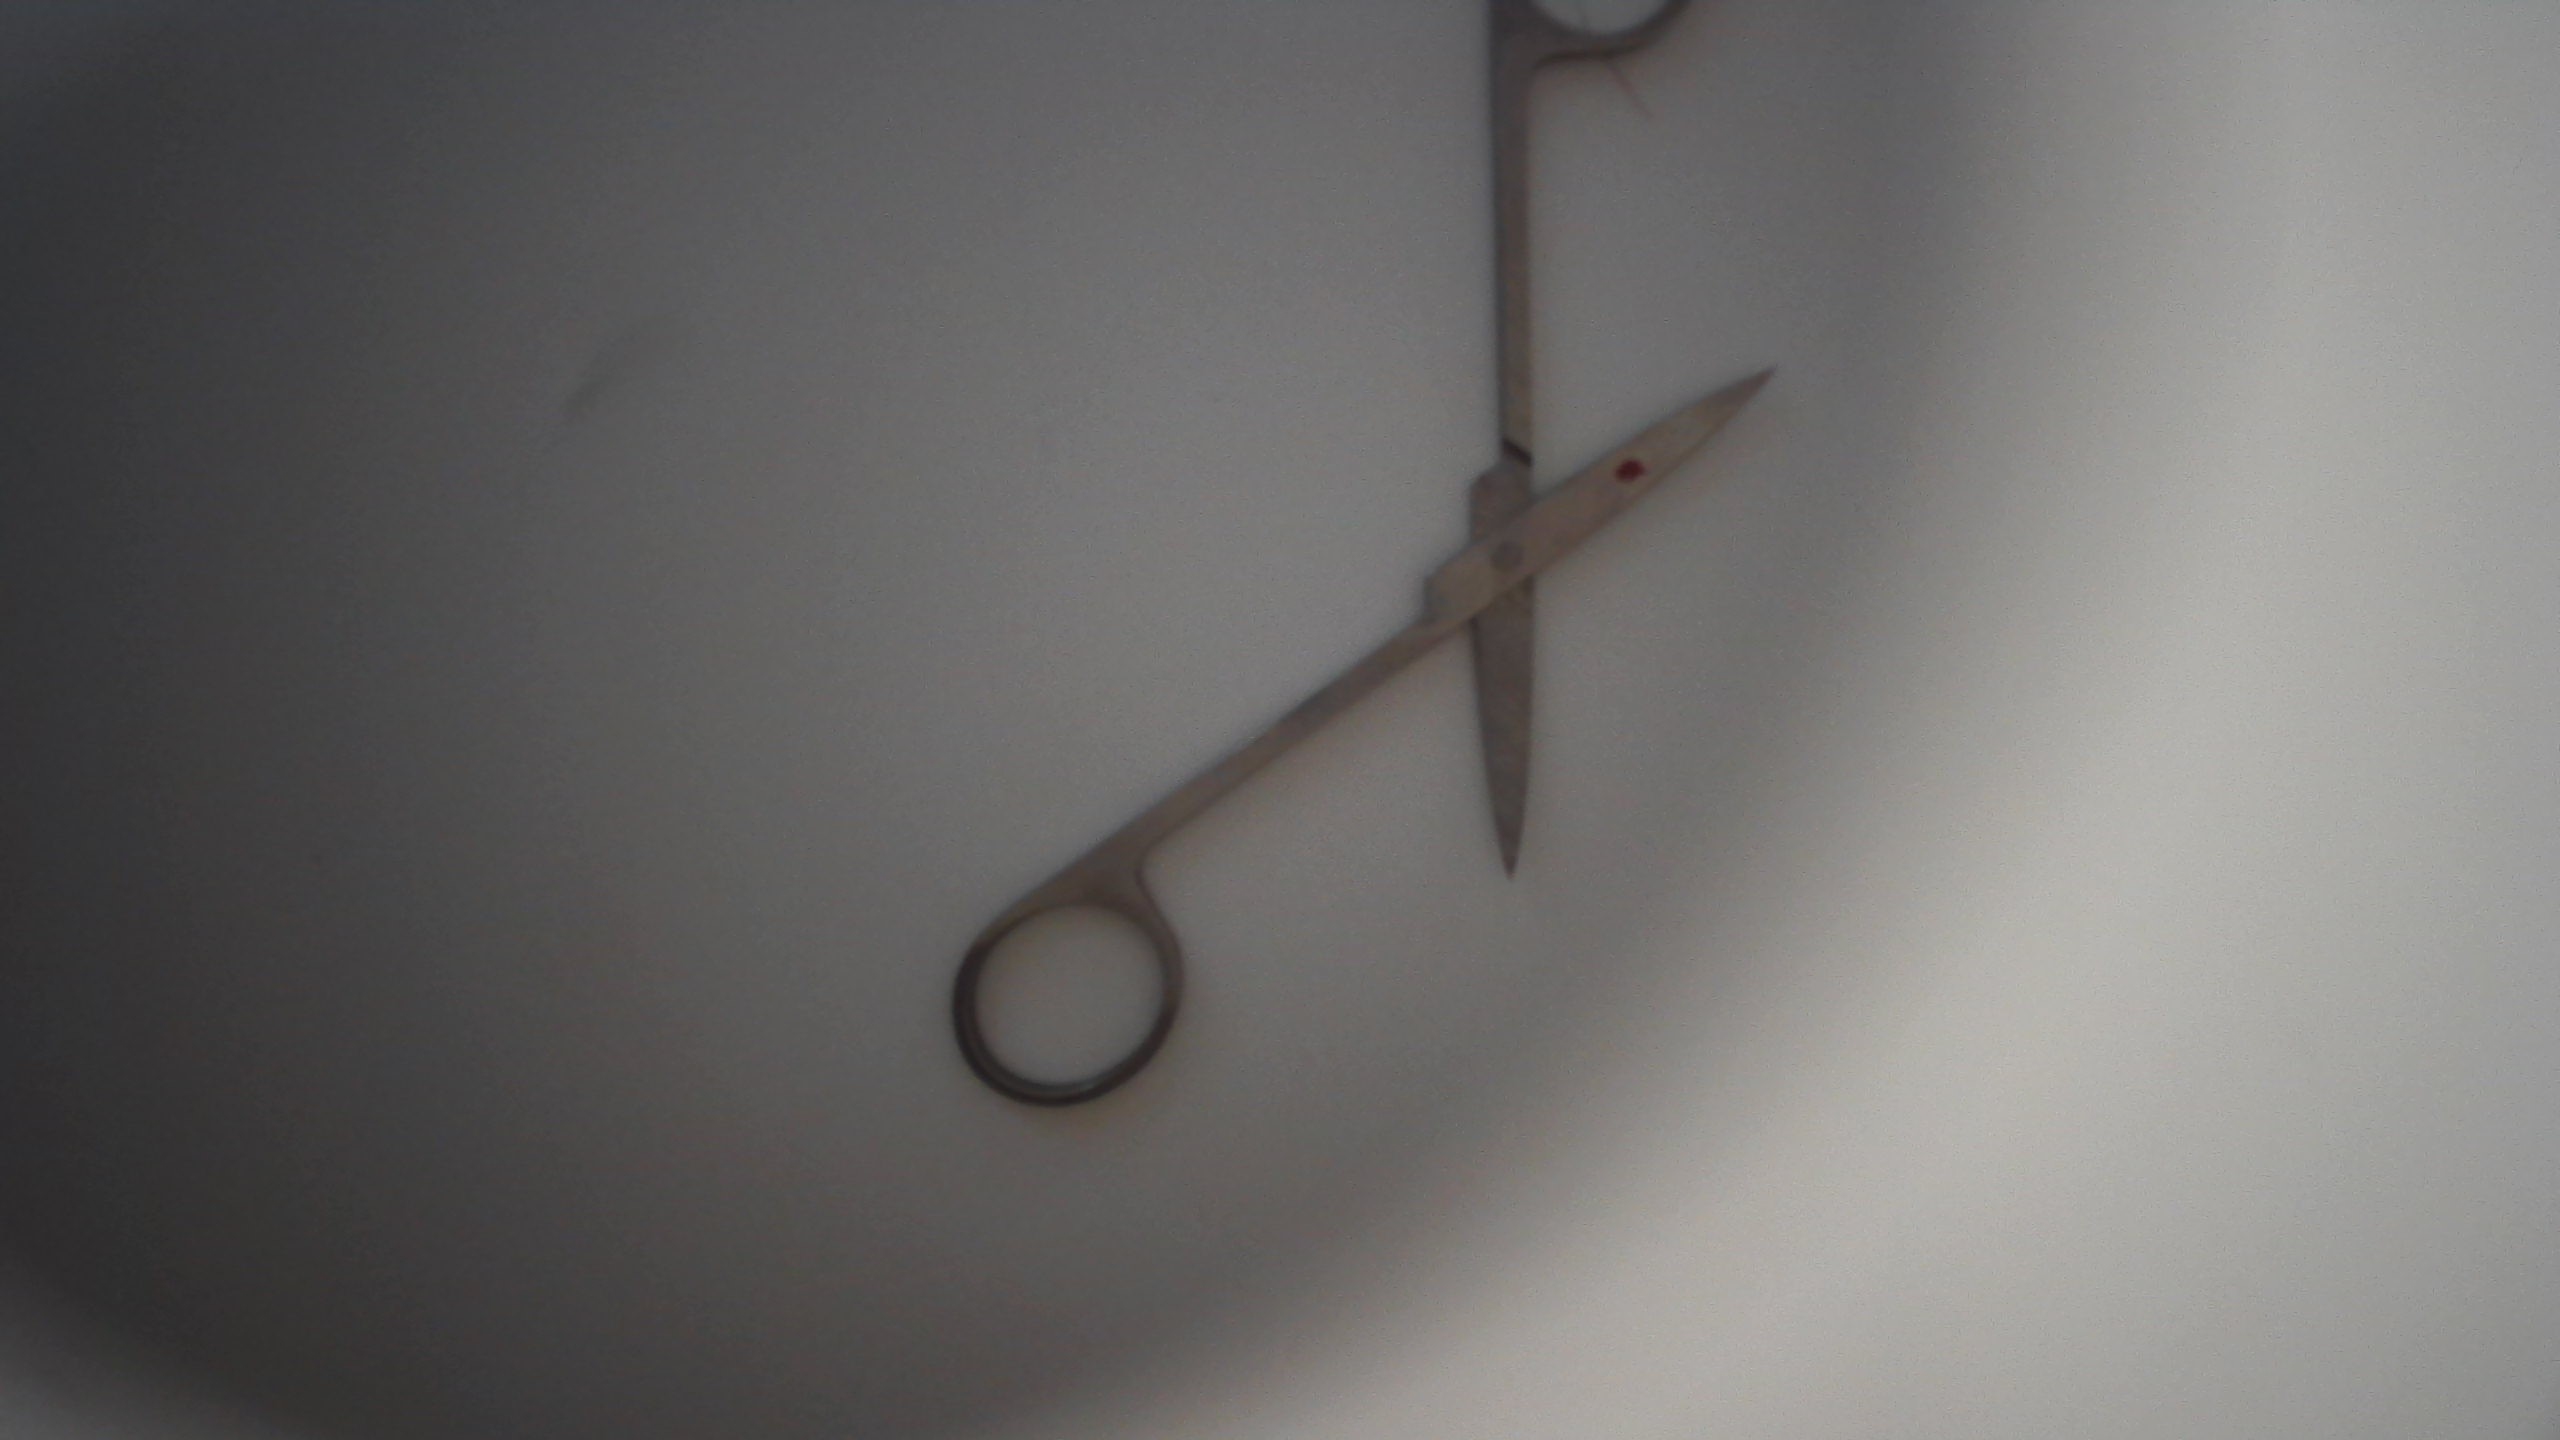Stain: (1602, 445, 1662, 498)
